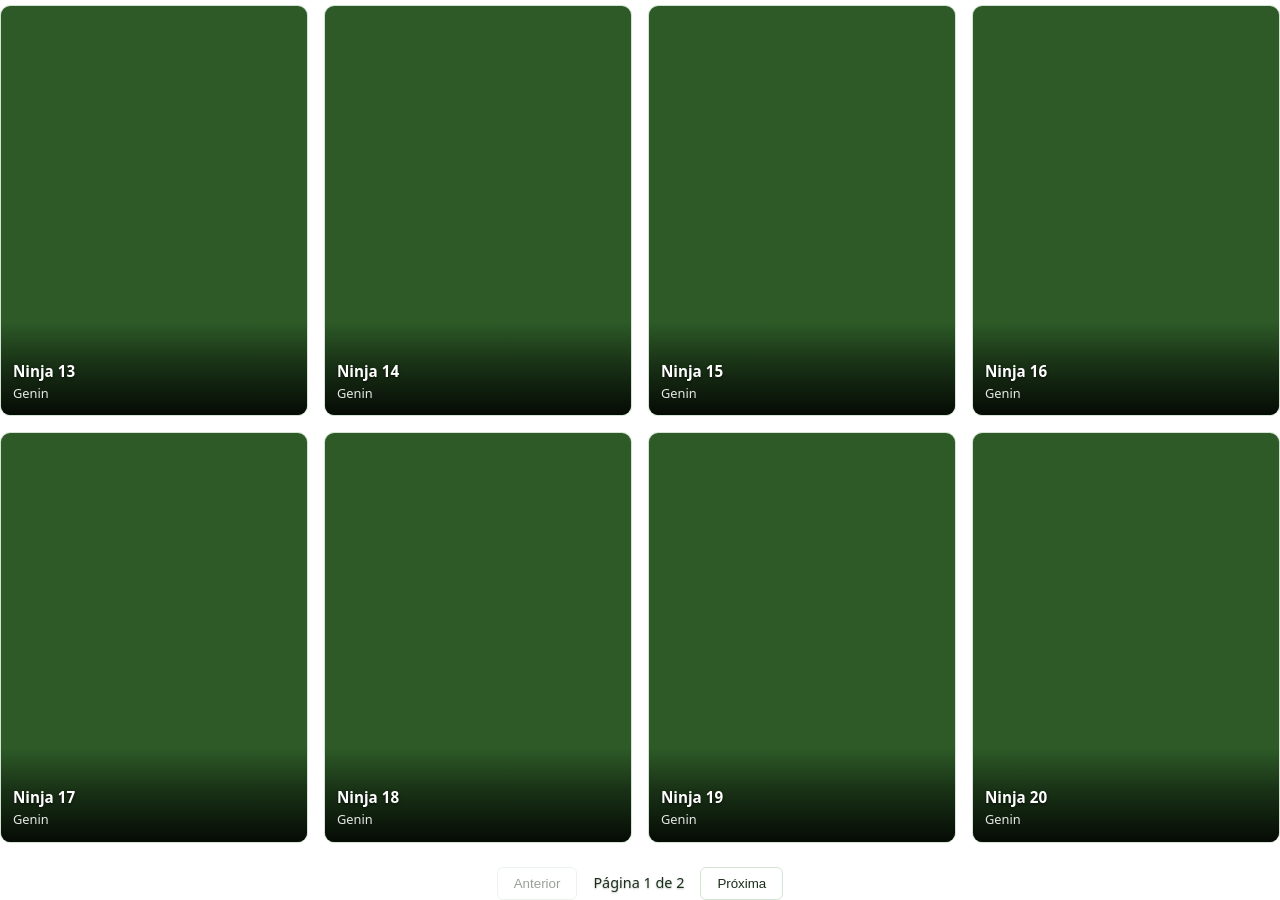
Test: NinjaListPage › paginates grid with 20 ninjas per page
(page scrolled)
expect the heading "Ninja 20" is shown: met, box [985,787,1047,807]
expect the text "Ninja 21" is not shown: met
Click the button "Próxima".
click(742, 883)  # box [700,867,783,899]
(page scrolled)
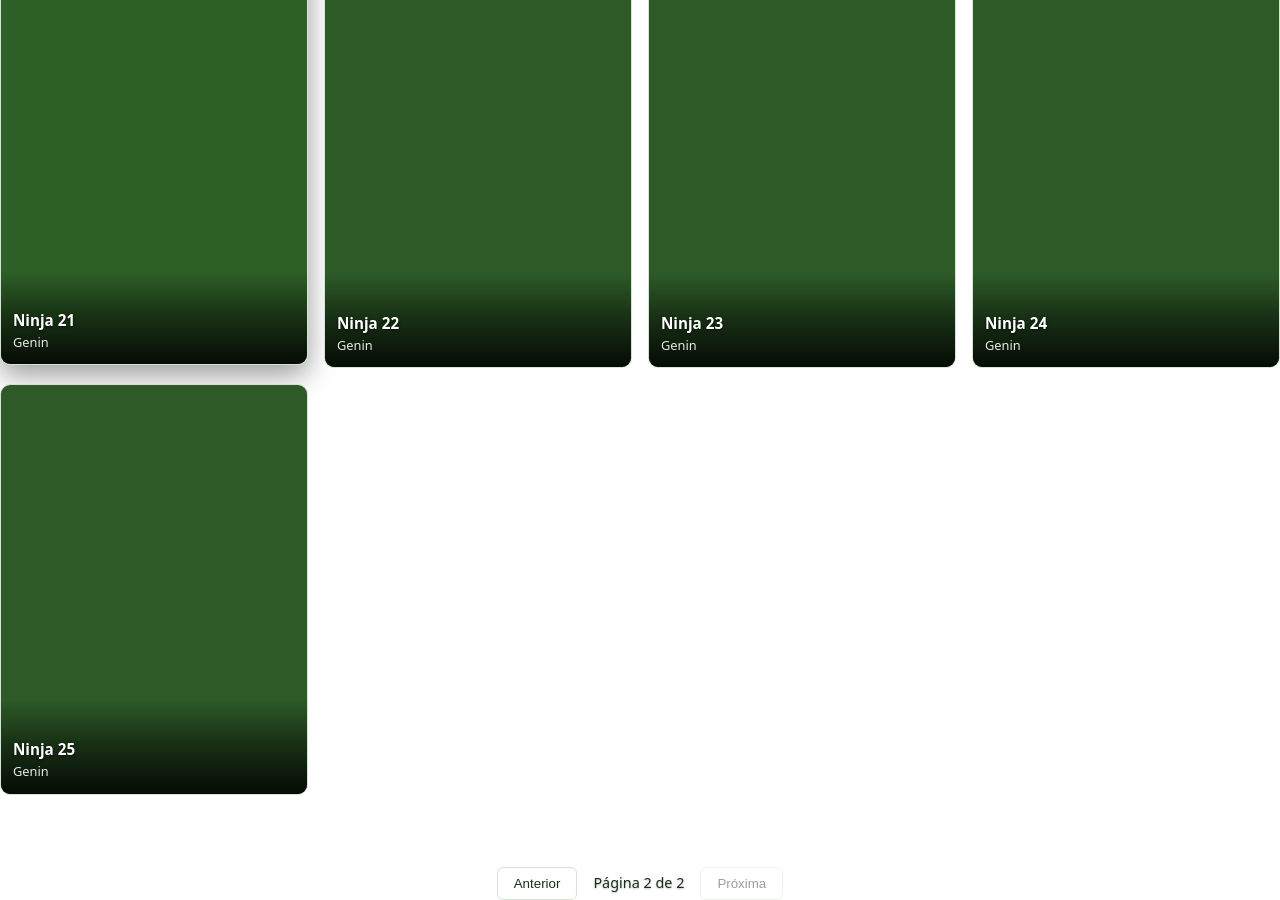
expect the heading "Ninja 21" is shown: met, box [13,310,75,330]
expect the link "Ninja 1" is gone: met
